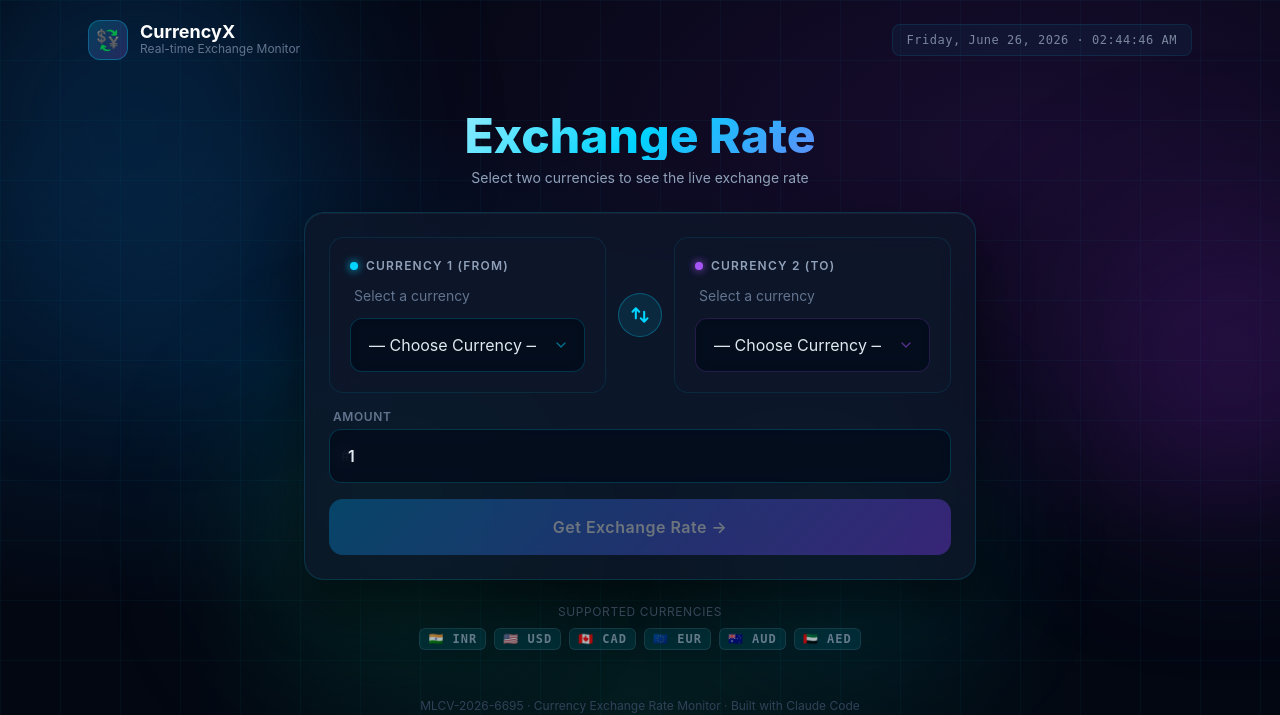
Test: TC-UI-03: Submit button disabled until both selected › get-rate button is enabled when both currencies are selected
Step 1. Select "🇺🇸 USD — US Dollars" in the dropdown with test id "currency1-select" → x=468, y=345, box [350,318,585,372]
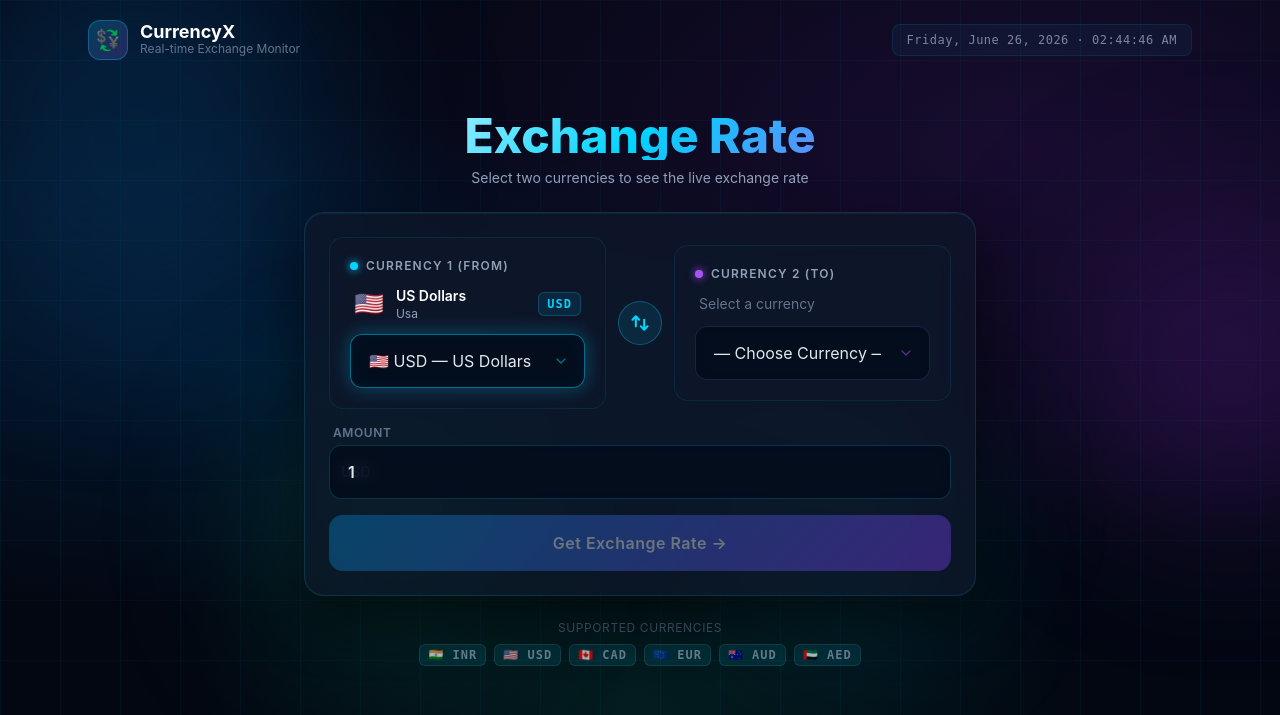
Step 2. Select "🇮🇳 INR — Indian Rupees" in the dropdown with test id "currency2-select" → x=812, y=353, box [695,326,930,380]
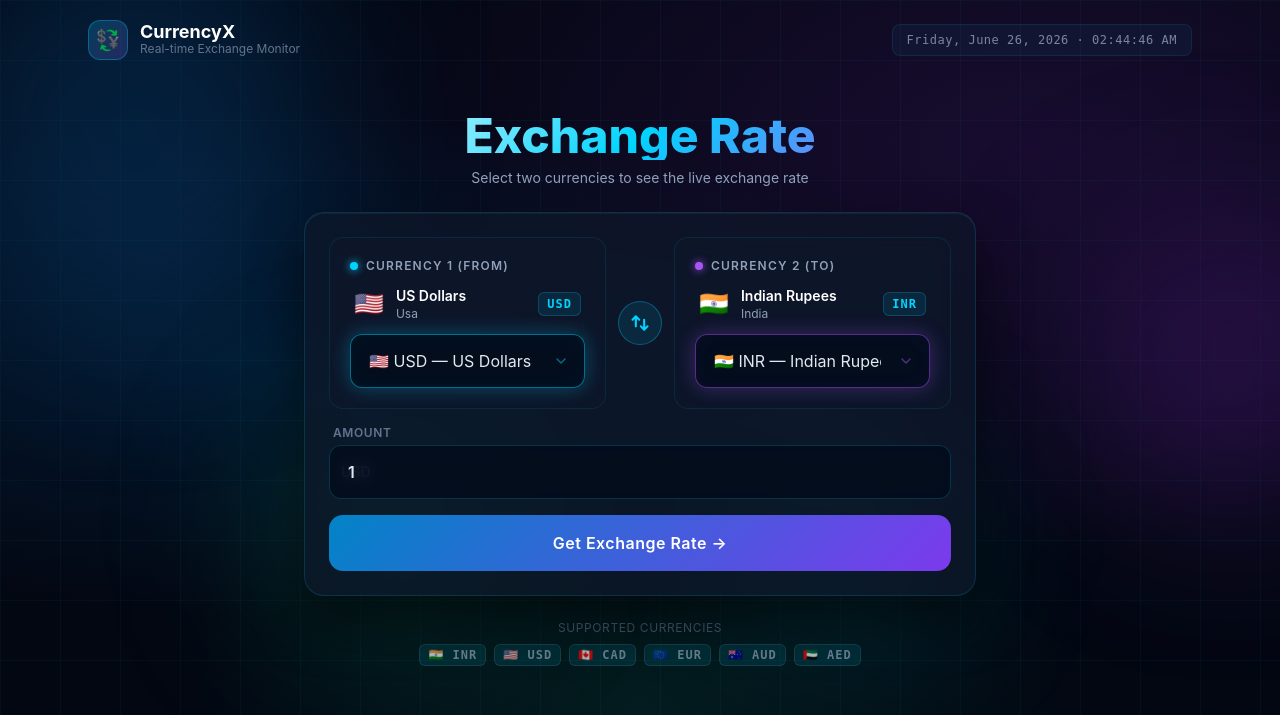
Now the button with test id "get-rate-button" is enabled, box [329,515,951,571]
